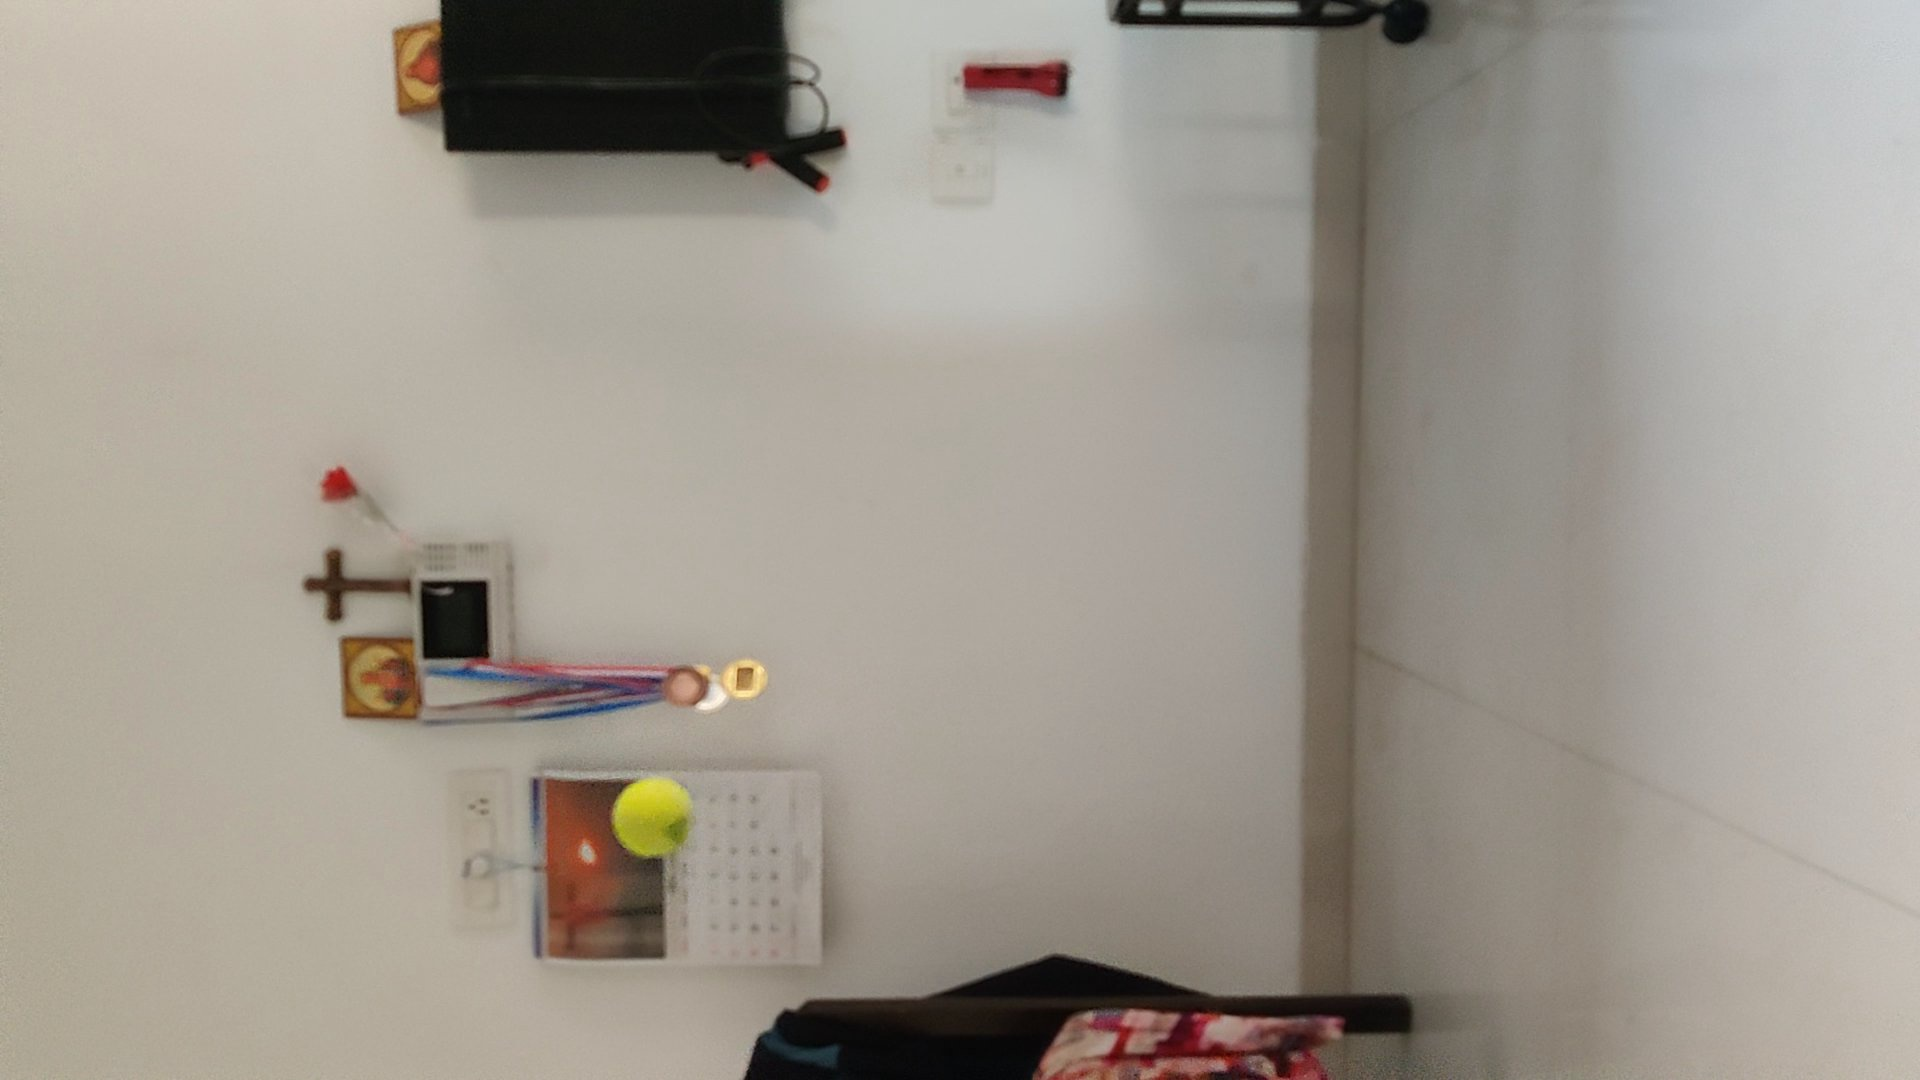Tennis-Ball: (611, 775, 696, 857)
